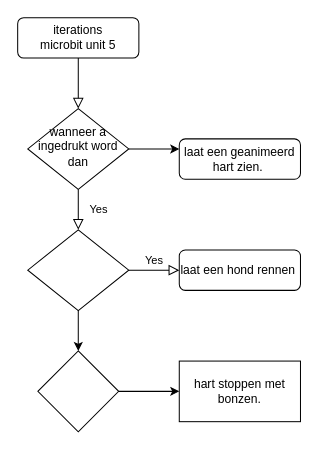
Some shapes in this 318 by 449 pixel diagram are drawn without their labels. Each missing label, with the centre of its shape:
"wanneer b ingedrukt dan." belongs at (78,270).
"wanner a+b ingedrukt dan." belongs at (78,391).
